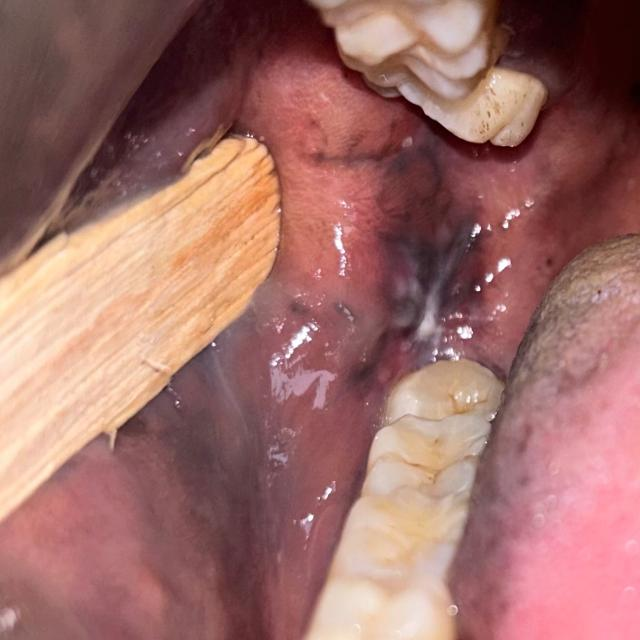leukoplakia-like-detection: (113, 304, 326, 639), (347, 124, 520, 362)
processing_area: (3, 49, 640, 639)
